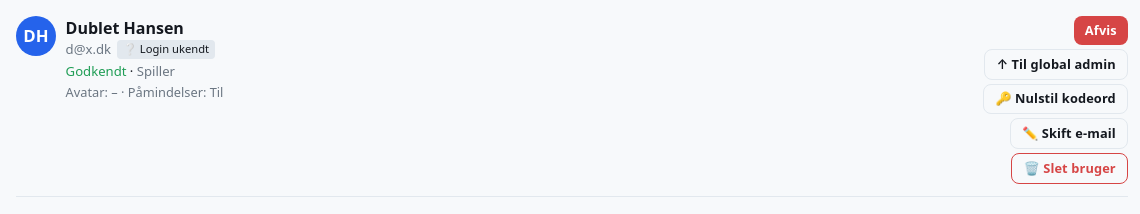
UserRow — Slet bruger › liga-ejer: samme fejlkode, men UDEN kanForceres → ingen «Slet alligevel?», fejlen vises
Click the button "🗑️ Slet bruger" at [1070, 168], box [1012, 153, 1128, 184]
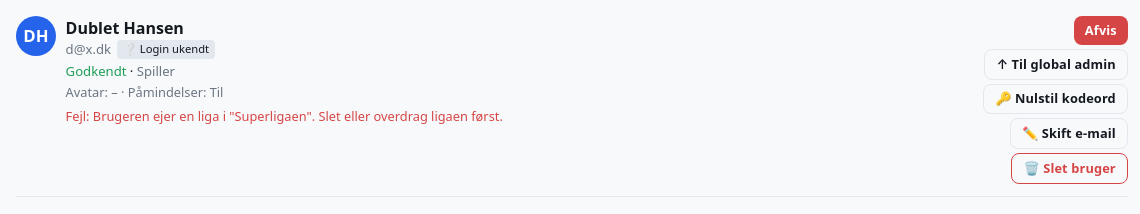
Now the text "ejer en liga i \"Superligaen\"" is shown, box [66, 107, 503, 125]
